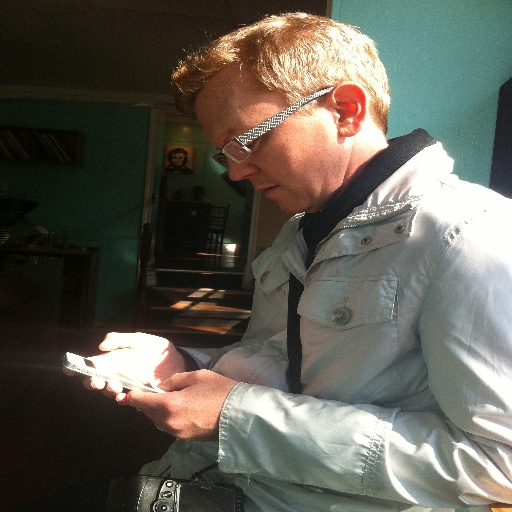hand: (62, 331, 185, 406), (127, 368, 237, 441)
